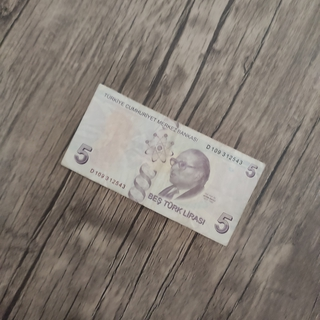5TLBack: (59, 81, 266, 249)
